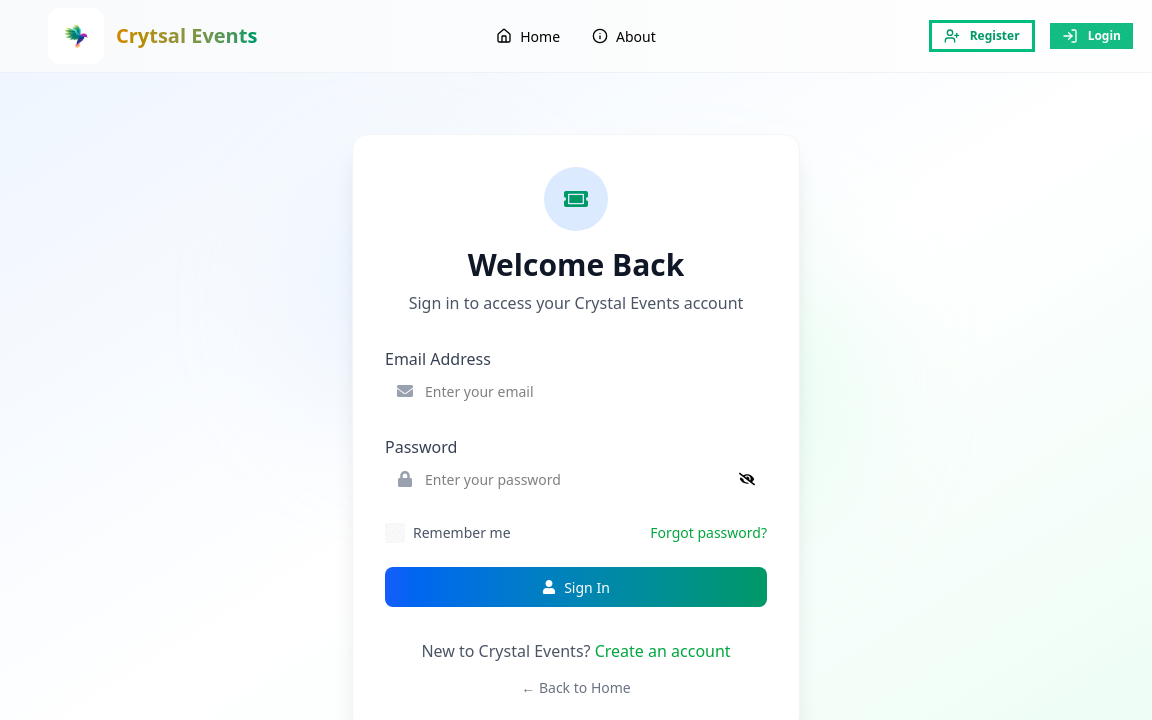
Test: Login Component › should toggle password visibility
Type "password123" into the password field with test id "login-password-input".
click(576, 479); type("password123")  # box x1=385 y1=459 x2=767 y2=499
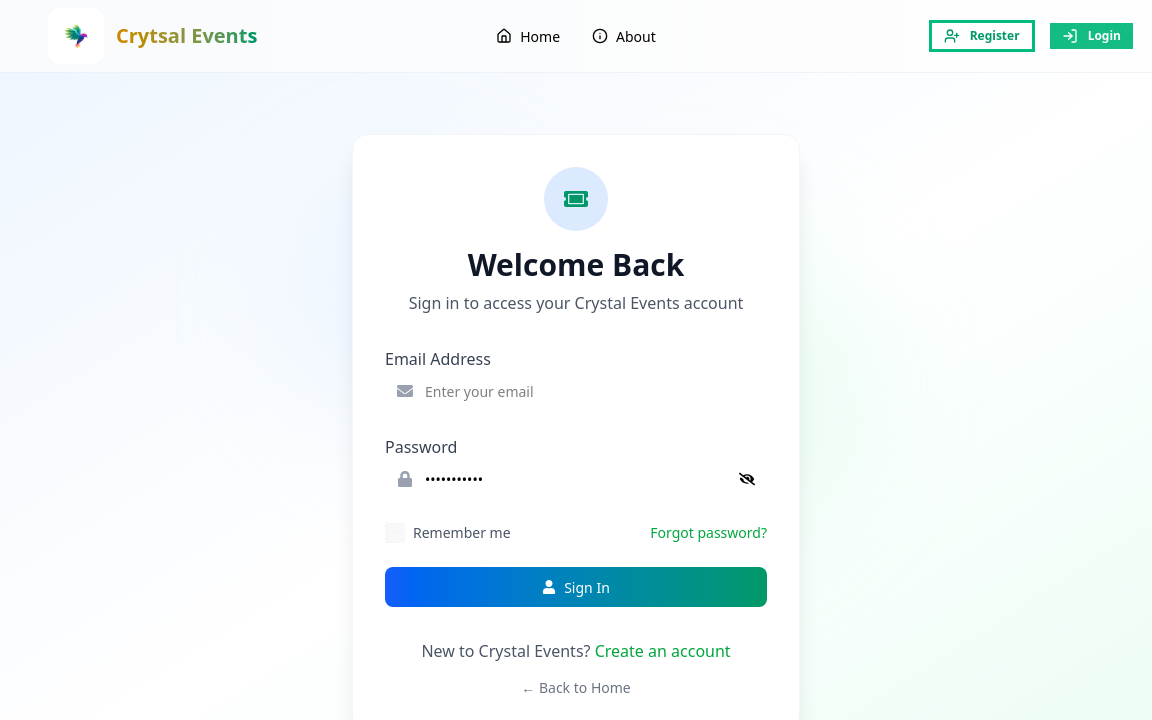
Click the button with test id "toggle-password-visibility".
click(753, 479)  # box x1=739 y1=459 x2=767 y2=499
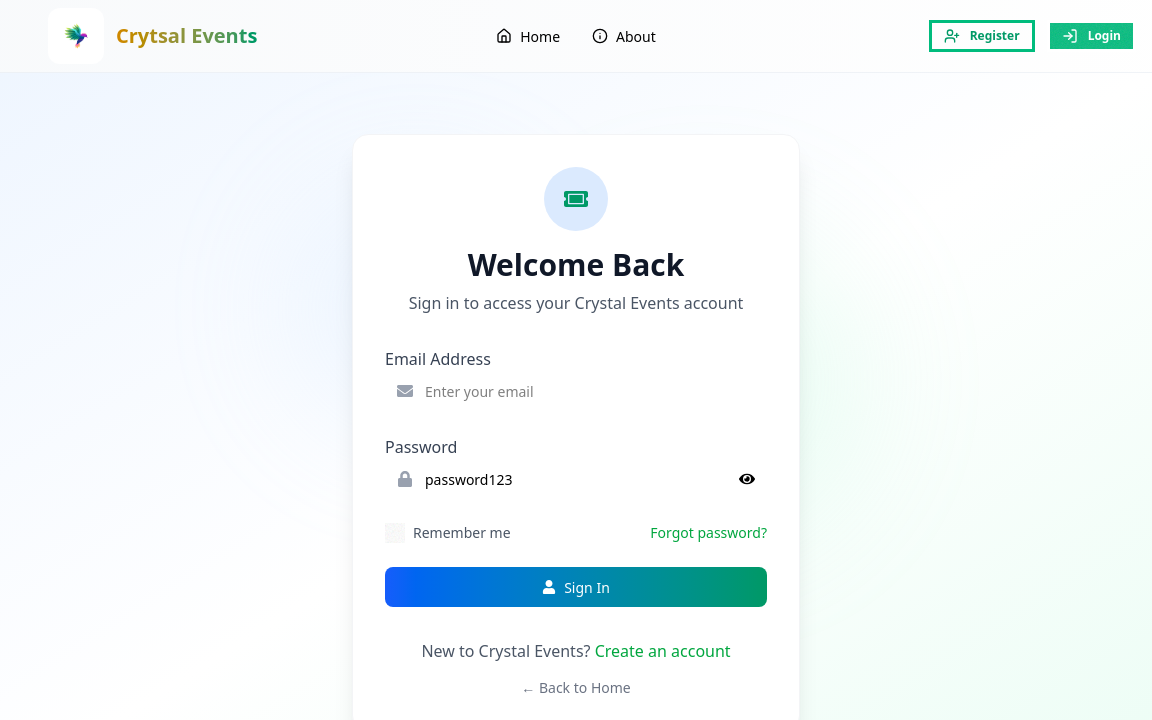
Result: the field with test id "login-password-input" shows its text at x1=385 y1=459 x2=767 y2=499
Click the button with test id "toggle-password-visibility".
click(753, 479)  # box x1=739 y1=459 x2=767 y2=499
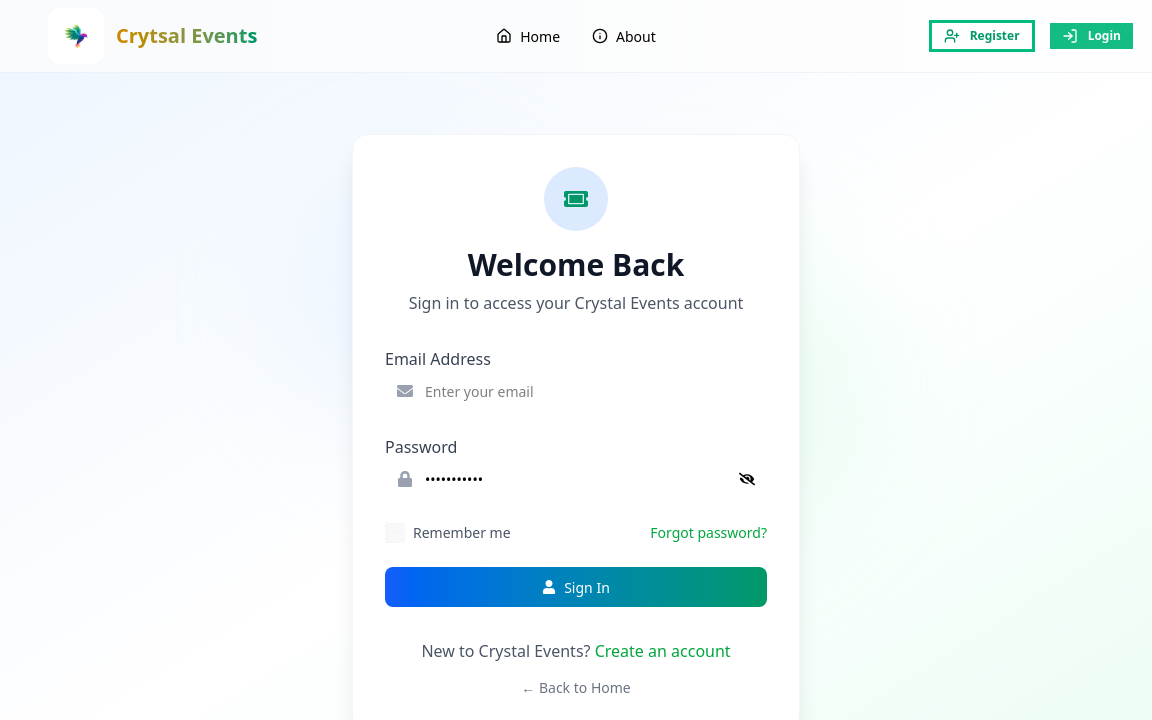
Result: the password field with test id "login-password-input" hides its text at x1=385 y1=459 x2=767 y2=499
